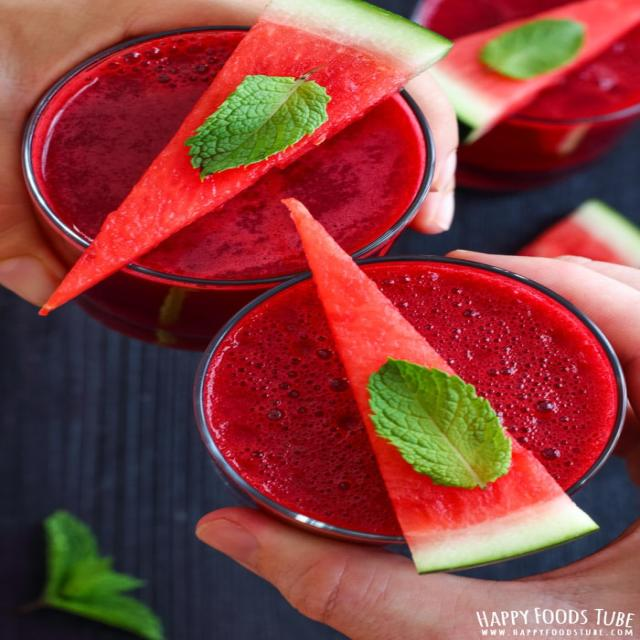watermelon: (40, 3, 447, 320), (282, 200, 604, 570), (414, 3, 640, 137)
